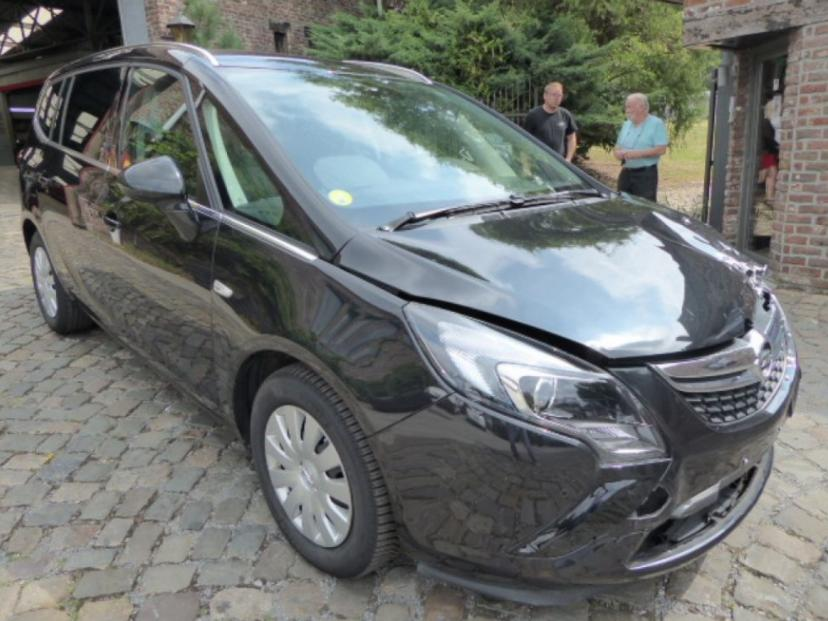Back-door: (48, 60, 128, 323)
Back-wheel: (29, 231, 93, 333)
Back-window: (38, 68, 120, 165)
Fender: (211, 222, 455, 445)
Front-bumper: (366, 320, 800, 604)
Front-door: (98, 61, 220, 417)
Front-wheel: (251, 364, 397, 574)
Front-window: (196, 89, 311, 246), (119, 68, 219, 210)
Grille: (650, 293, 788, 425)
Headlight: (403, 302, 670, 463)
Hood: (332, 193, 763, 359)
Mirror: (119, 155, 202, 241)
Quarter-panel: (20, 125, 56, 271)
Rocker-panel: (82, 308, 220, 426)
Roof: (209, 51, 430, 83)
Windshield: (214, 67, 601, 232)
